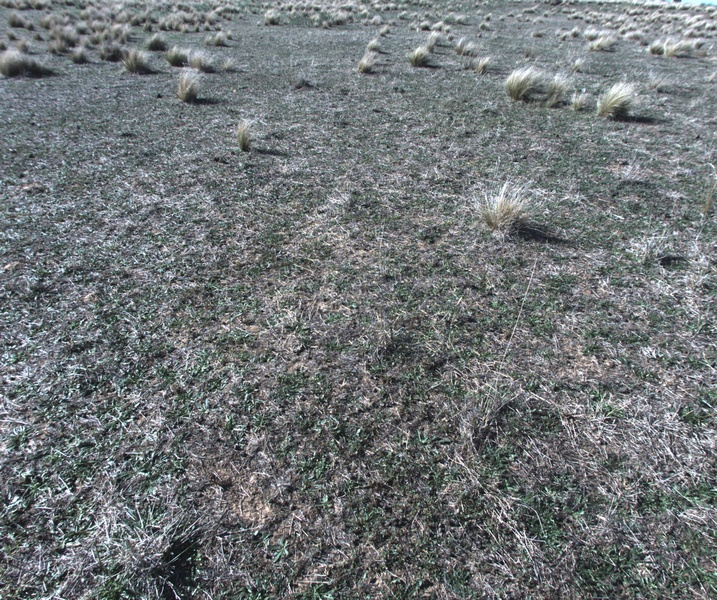st: (471, 176, 549, 243), (594, 79, 642, 120), (504, 67, 545, 109), (1, 50, 51, 80), (177, 69, 205, 109), (236, 111, 256, 154), (125, 48, 157, 72), (356, 49, 382, 78), (668, 34, 693, 63), (587, 33, 620, 53), (184, 53, 217, 72), (453, 31, 477, 56), (49, 27, 72, 51), (409, 47, 434, 69), (164, 44, 187, 67), (423, 30, 444, 54), (209, 29, 233, 49), (572, 89, 590, 114), (68, 42, 88, 63), (474, 53, 493, 75), (97, 43, 120, 61), (146, 33, 167, 52), (264, 7, 286, 25), (448, 8, 471, 25), (652, 34, 668, 58), (222, 54, 243, 71), (8, 12, 29, 28), (370, 11, 388, 29), (625, 26, 644, 43), (364, 34, 381, 52), (20, 36, 33, 57), (431, 21, 447, 36), (381, 27, 395, 41), (23, 20, 38, 30), (6, 29, 17, 40)
